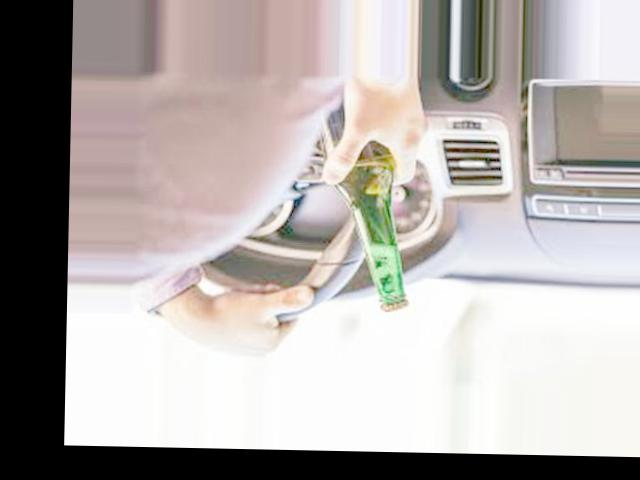beer: (317, 96, 413, 313)
